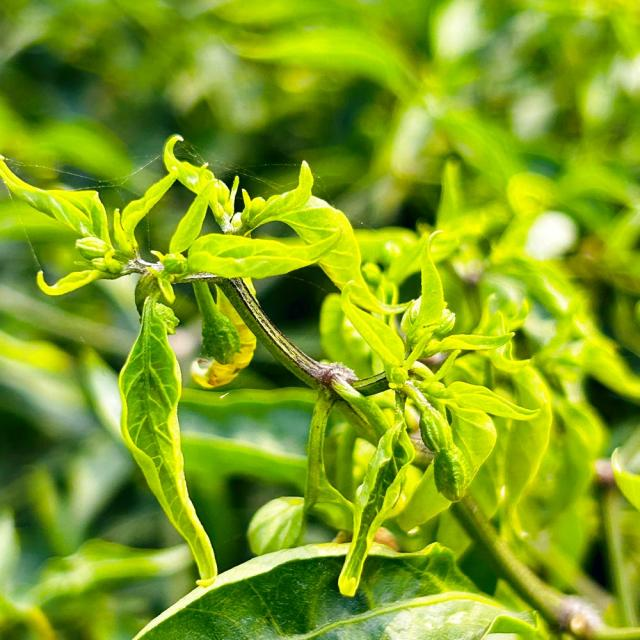Chilli_Leaf_Curl: (1, 133, 542, 606), (326, 227, 538, 597), (0, 132, 366, 306), (130, 538, 544, 639), (116, 293, 218, 586), (336, 420, 415, 597)
